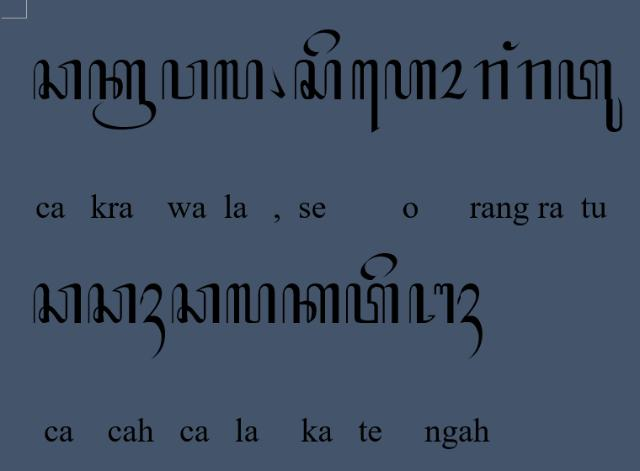_h1: (456, 282, 484, 360), (140, 283, 167, 361)
c: (32, 282, 82, 326), (87, 282, 137, 326), (32, 58, 82, 101), (171, 283, 221, 325)
e: (303, 27, 342, 57), (359, 252, 398, 282)
e1: (352, 58, 382, 134)
h: (382, 58, 438, 101)
k: (281, 282, 341, 326)
kom: (268, 66, 286, 99)
kr: (87, 58, 157, 130)
l: (212, 58, 266, 102), (226, 284, 276, 326)
ng: (501, 39, 521, 52)
nga: (408, 282, 457, 324)
o: (438, 58, 468, 101)
r: (516, 59, 554, 103), (474, 58, 510, 101)
s: (293, 57, 345, 102)
t: (344, 280, 400, 326)
tu: (557, 58, 623, 134)
w: (162, 56, 210, 102)
